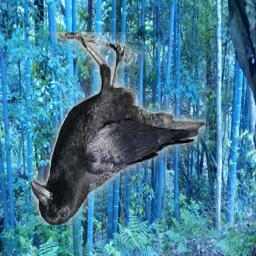Crow: (32, 33, 207, 226)
